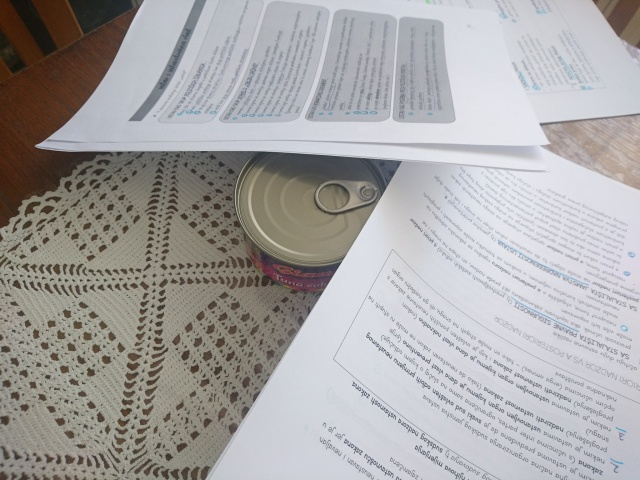Giana Tuna Salad Mexico 185g: (230, 136, 391, 295)
